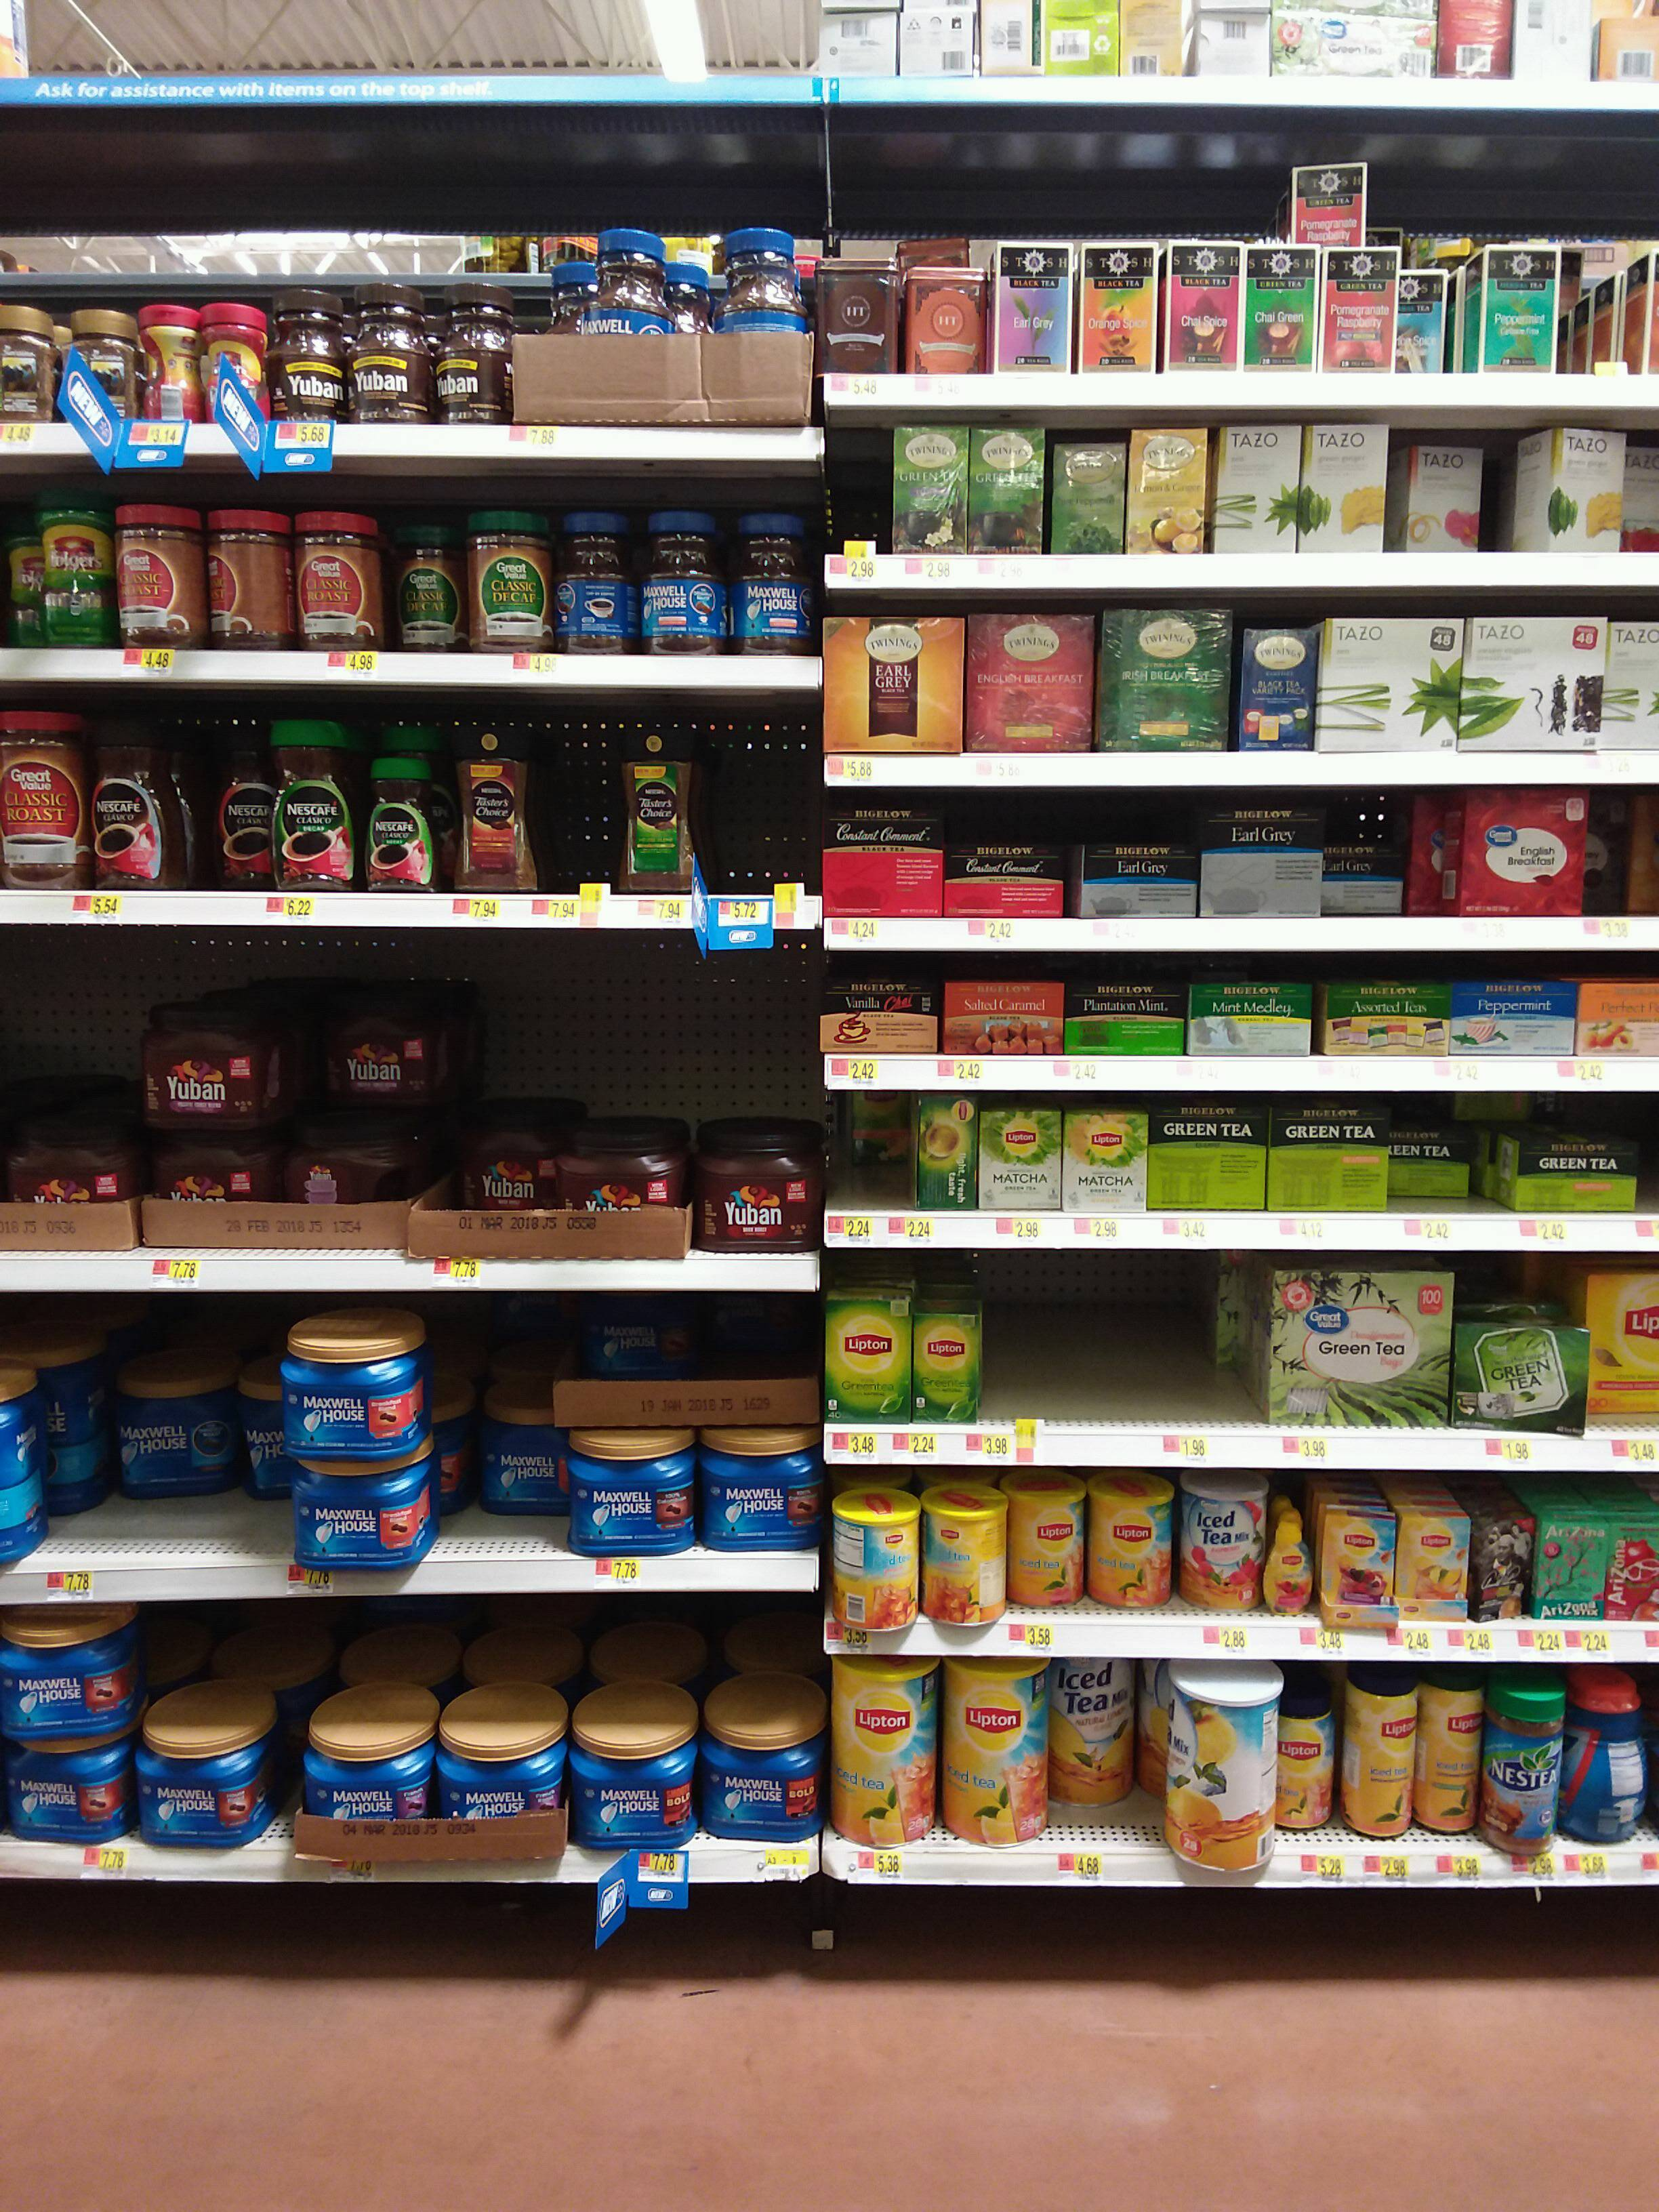Misplacement: (113, 1357, 293, 1566)
Out-of-stock: (986, 1252, 1206, 1425)
